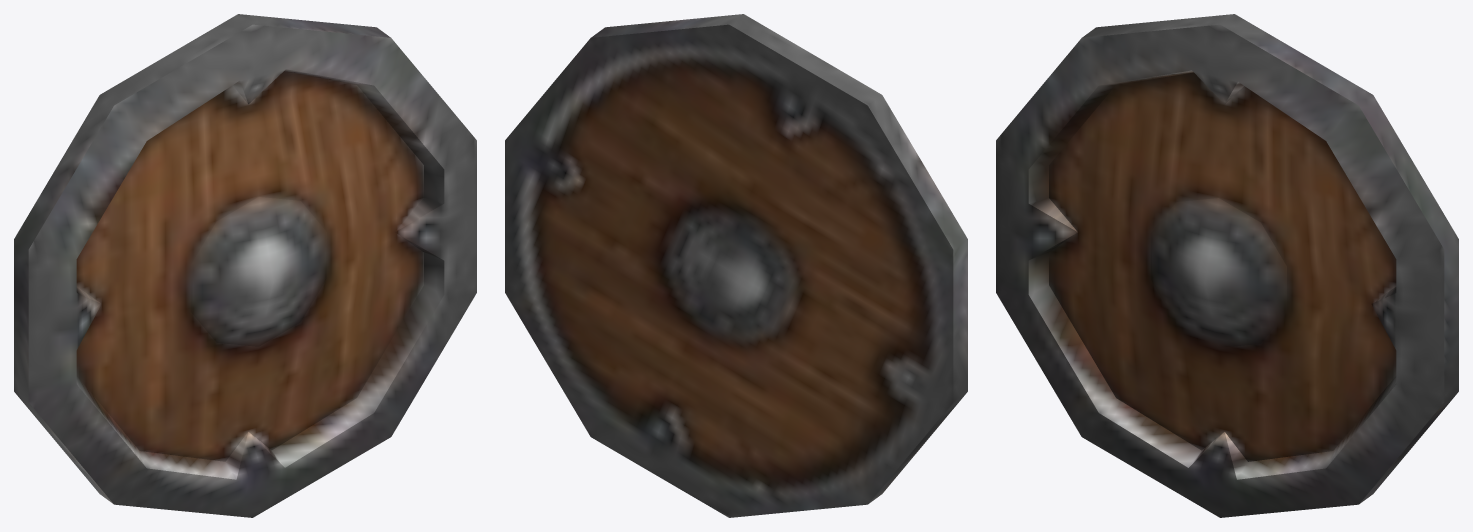
File: Shield A.glb
The picture shows the model from 3 angles, left to right: view 1: azimuth 30°, elevation 25°; view 2: azimuth 150°, elevation 25°; view 3: azimuth 330°, elevation 25°; orthographic projection.
Visible parts, largest first — view 1: shield_a; view 2: shield_a; view 3: shield_a.
Part boxes in pixels (x1=…): shield_a: x1=14, y1=14, x2=476, y2=517; shield_a: x1=505, y1=14, x2=967, y2=517; shield_a: x1=996, y1=14, x2=1458, y2=517.
Size of the model in its own units: 0.3991 by 0.4197 by 0.05.
Materials: 1 (1 with a texture image).
